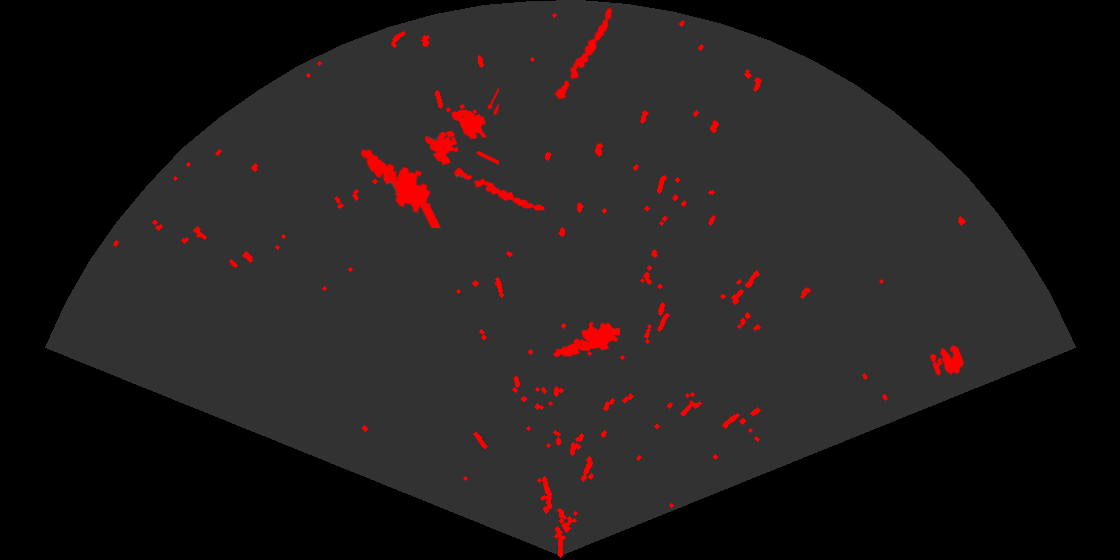ball: (928, 343, 966, 377)
cage: (423, 86, 499, 167)
chain: (553, 6, 614, 101), (452, 166, 546, 212)
frogman: (359, 147, 443, 228), (551, 320, 620, 359)
